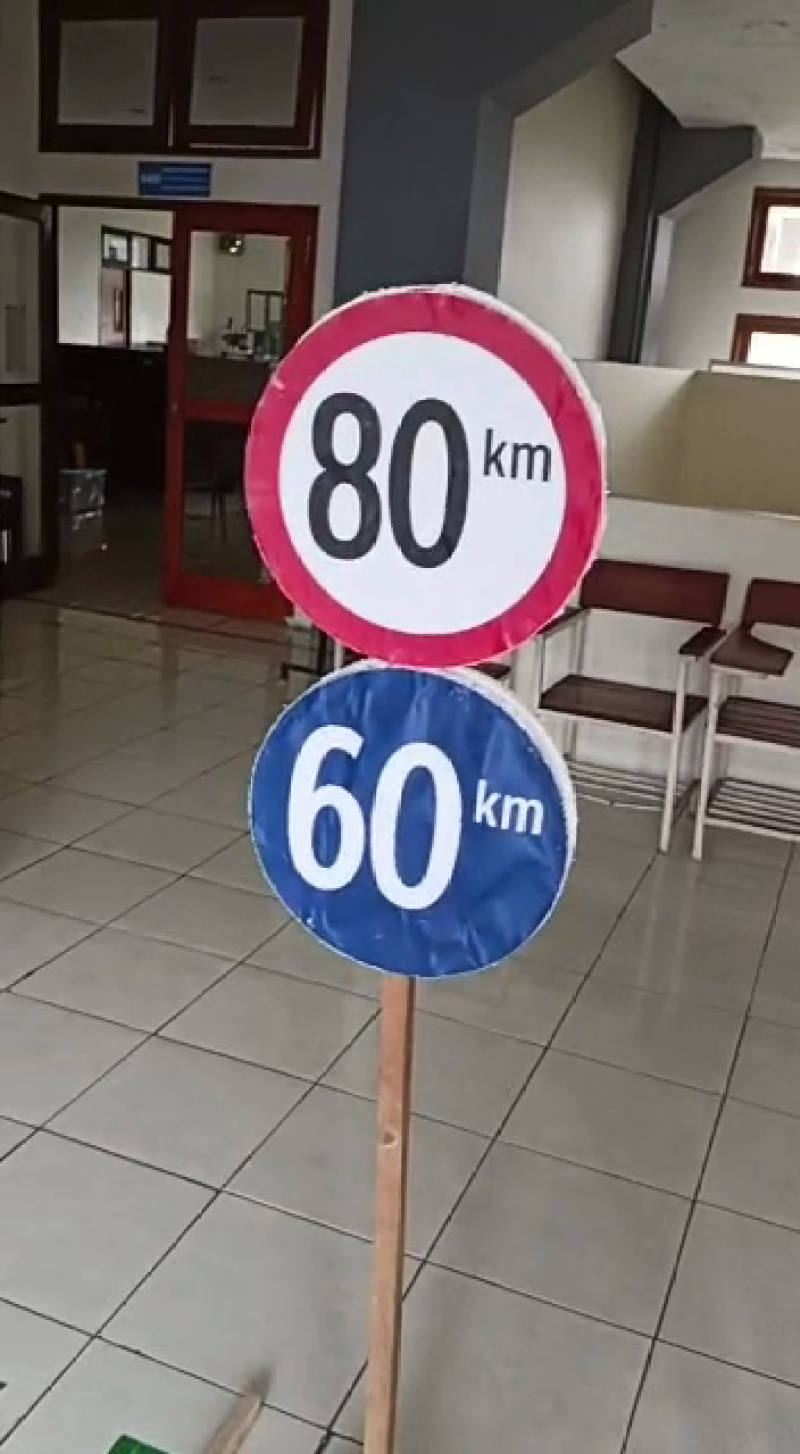batas maksimal 80kmperjam minimal 60kmperjam: (221, 260, 613, 982)
